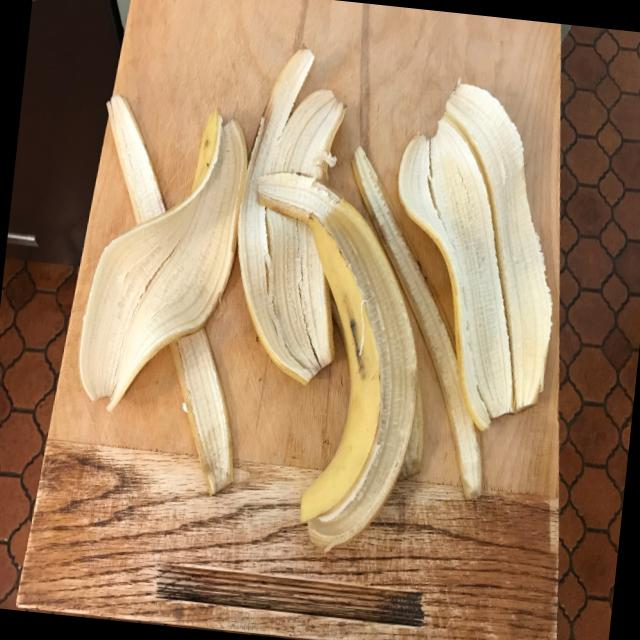banana_peel: (228, 148, 454, 618), (392, 60, 575, 506), (50, 106, 285, 423), (233, 33, 361, 412)
